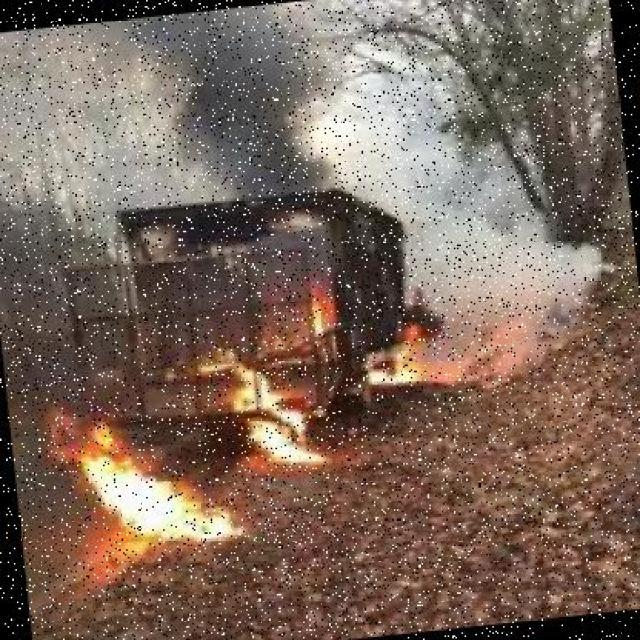fire: (31, 390, 251, 578), (190, 336, 332, 482), (344, 304, 458, 404), (282, 275, 363, 337)
